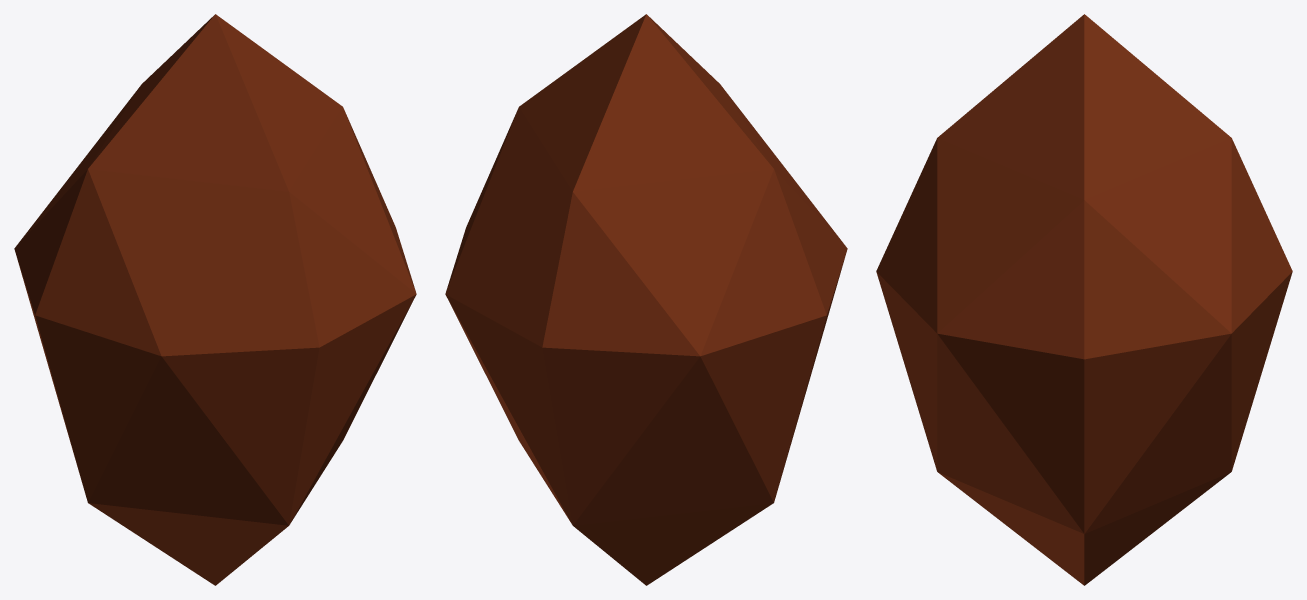
File: Cacao (Animado).fbx
3 views of the same model, side by side, from view 1: azimuth 30°, elevation 25°; view 2: azimuth 150°, elevation 25°; view 3: azimuth 270°, elevation 25° (orthographic).
Visible parts, largest first — view 1: GeoSphere001; view 2: GeoSphere001; view 3: GeoSphere001.
Part boxes in pixels (bbox=[...]): GeoSphere001: bbox=[14, 14, 416, 585]; GeoSphere001: bbox=[445, 14, 847, 585]; GeoSphere001: bbox=[876, 14, 1292, 585].
Bounding box in the file's own units: 20 × 30.3 × 20.
